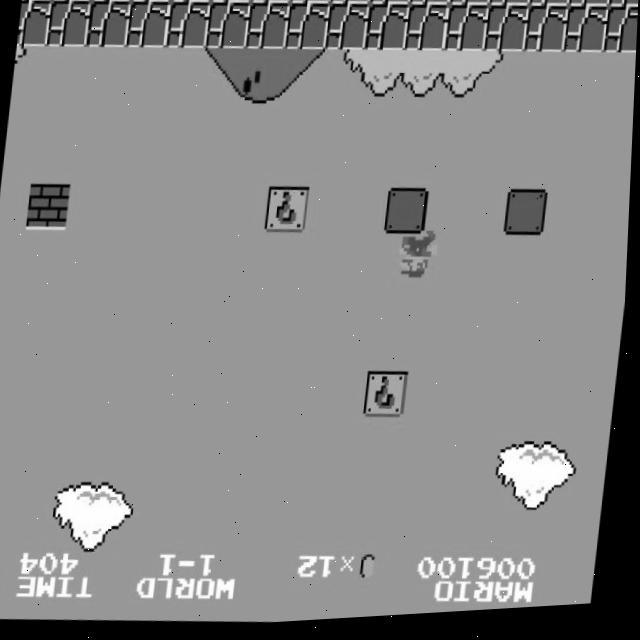1- brick_block: (27, 182, 73, 233)
11- little_mario: (396, 234, 444, 287)
13- mystery_block: (366, 374, 412, 424), (266, 187, 311, 238)
17- undestructible_block: (563, 11, 609, 62), (444, 8, 490, 59), (404, 7, 450, 58), (364, 6, 410, 57), (245, 3, 291, 54), (205, 2, 251, 53), (165, 1, 211, 52), (125, 1, 171, 52), (46, 0, 92, 50), (524, 10, 569, 61), (484, 9, 529, 60), (325, 5, 370, 56), (285, 4, 330, 55), (86, 0, 131, 50), (603, 12, 639, 63), (17, 0, 51, 48), (568, 0, 612, 16), (528, 0, 572, 15), (488, 0, 532, 14), (448, 0, 492, 14), (607, 0, 639, 17), (409, 0, 453, 12), (369, 0, 413, 11), (329, 0, 373, 11), (289, 0, 333, 9), (249, 0, 293, 8), (209, 0, 253, 7), (169, 0, 213, 7), (130, 0, 173, 6), (90, 0, 133, 5), (50, 0, 93, 4)
3- empty_block: (385, 190, 431, 241), (505, 193, 550, 244)
